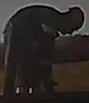helmet: (70, 6, 85, 29)
vest: (9, 5, 63, 34)
